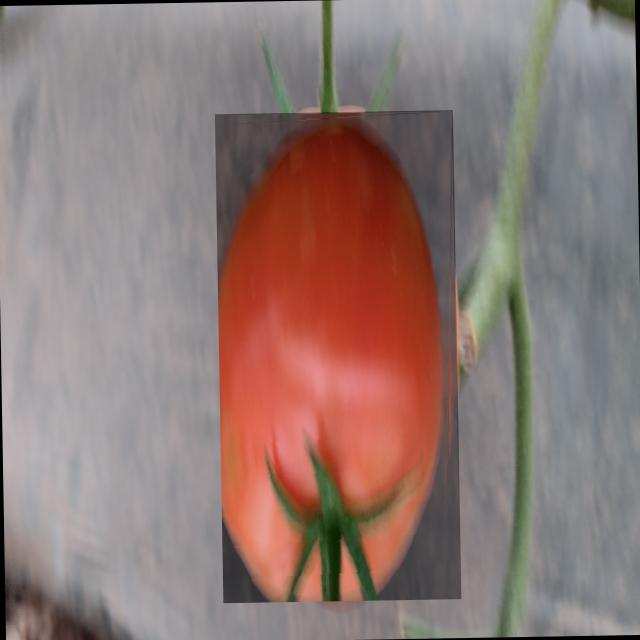Unripe Tomato: (214, 110, 460, 602)
